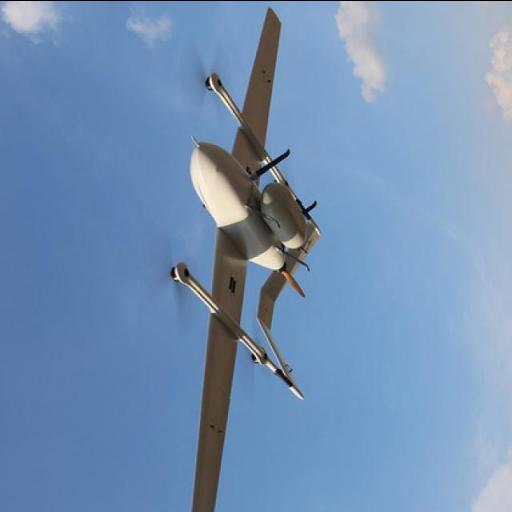uav: (161, 0, 352, 507)
